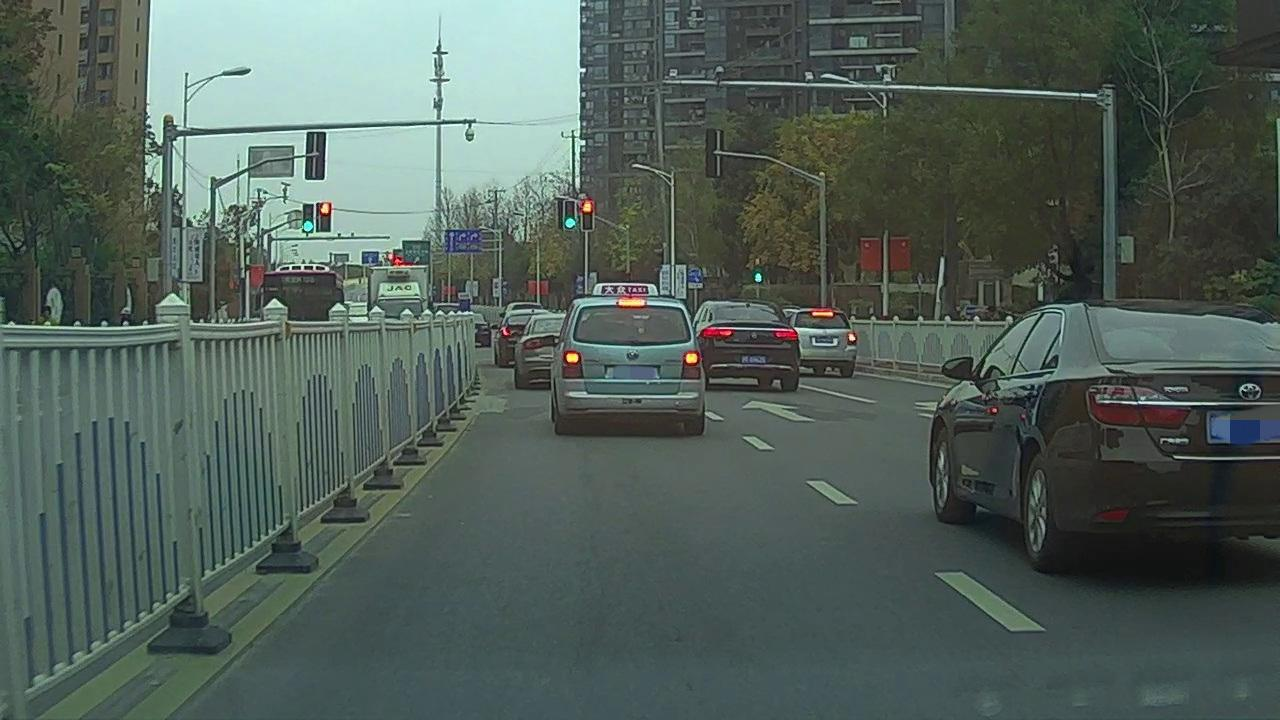traffic_light: (316, 204, 331, 231), (302, 203, 314, 233), (581, 201, 592, 231), (565, 202, 576, 228)
